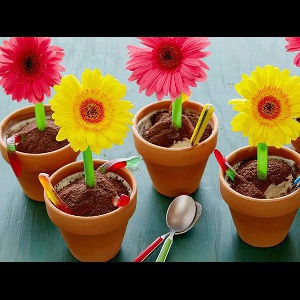flowerpot: (44, 160, 137, 261), (133, 99, 219, 200), (1, 103, 81, 204), (220, 146, 300, 247)
